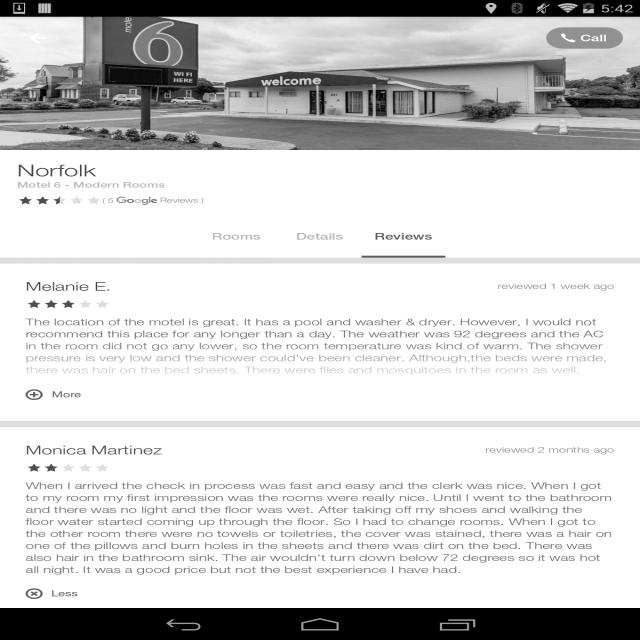ImageButton: (9, 17, 68, 59)
ImageView: (0, 17, 640, 150), (114, 195, 160, 207)
RatingBar: (26, 462, 111, 472), (17, 195, 102, 204), (26, 299, 111, 308)
TextView: (26, 480, 614, 578), (26, 316, 614, 379), (17, 161, 623, 180), (26, 279, 489, 293), (26, 443, 477, 457), (486, 442, 614, 457), (546, 27, 623, 49), (498, 279, 614, 293), (17, 180, 165, 190), (25, 384, 94, 405), (26, 583, 91, 604), (374, 231, 432, 242), (211, 231, 260, 242), (296, 231, 343, 242), (160, 195, 204, 204), (103, 195, 114, 205)
